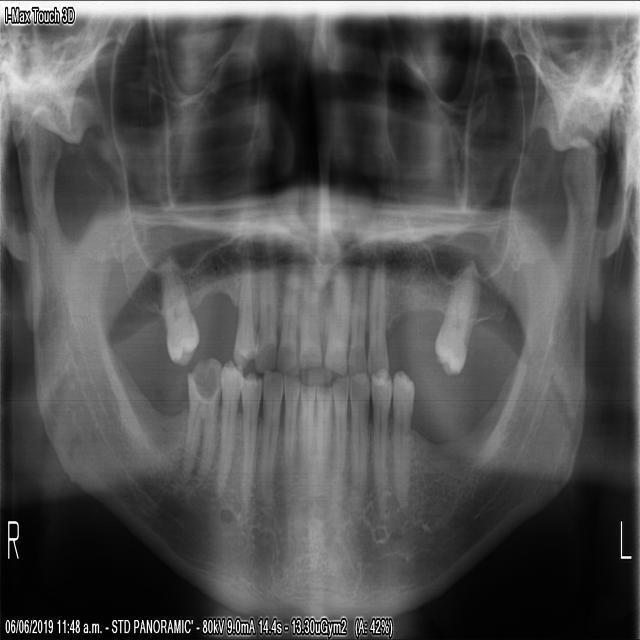LCD: (348, 367, 369, 527)
LID: (328, 377, 349, 521), (315, 382, 331, 506)
LIU: (322, 257, 351, 378)
LMU: (430, 257, 480, 377)
LPMD: (391, 366, 414, 518), (369, 364, 391, 520)
RCD: (257, 373, 281, 520)
RCU: (251, 248, 278, 376)
RID: (297, 381, 315, 497), (281, 375, 297, 496)
RIU: (273, 252, 301, 380), (295, 244, 322, 369)
RMD: (178, 352, 219, 494)
RMU: (159, 245, 201, 369)
RPMD: (211, 354, 239, 502), (238, 369, 260, 514)
RPMU: (229, 243, 252, 373)
